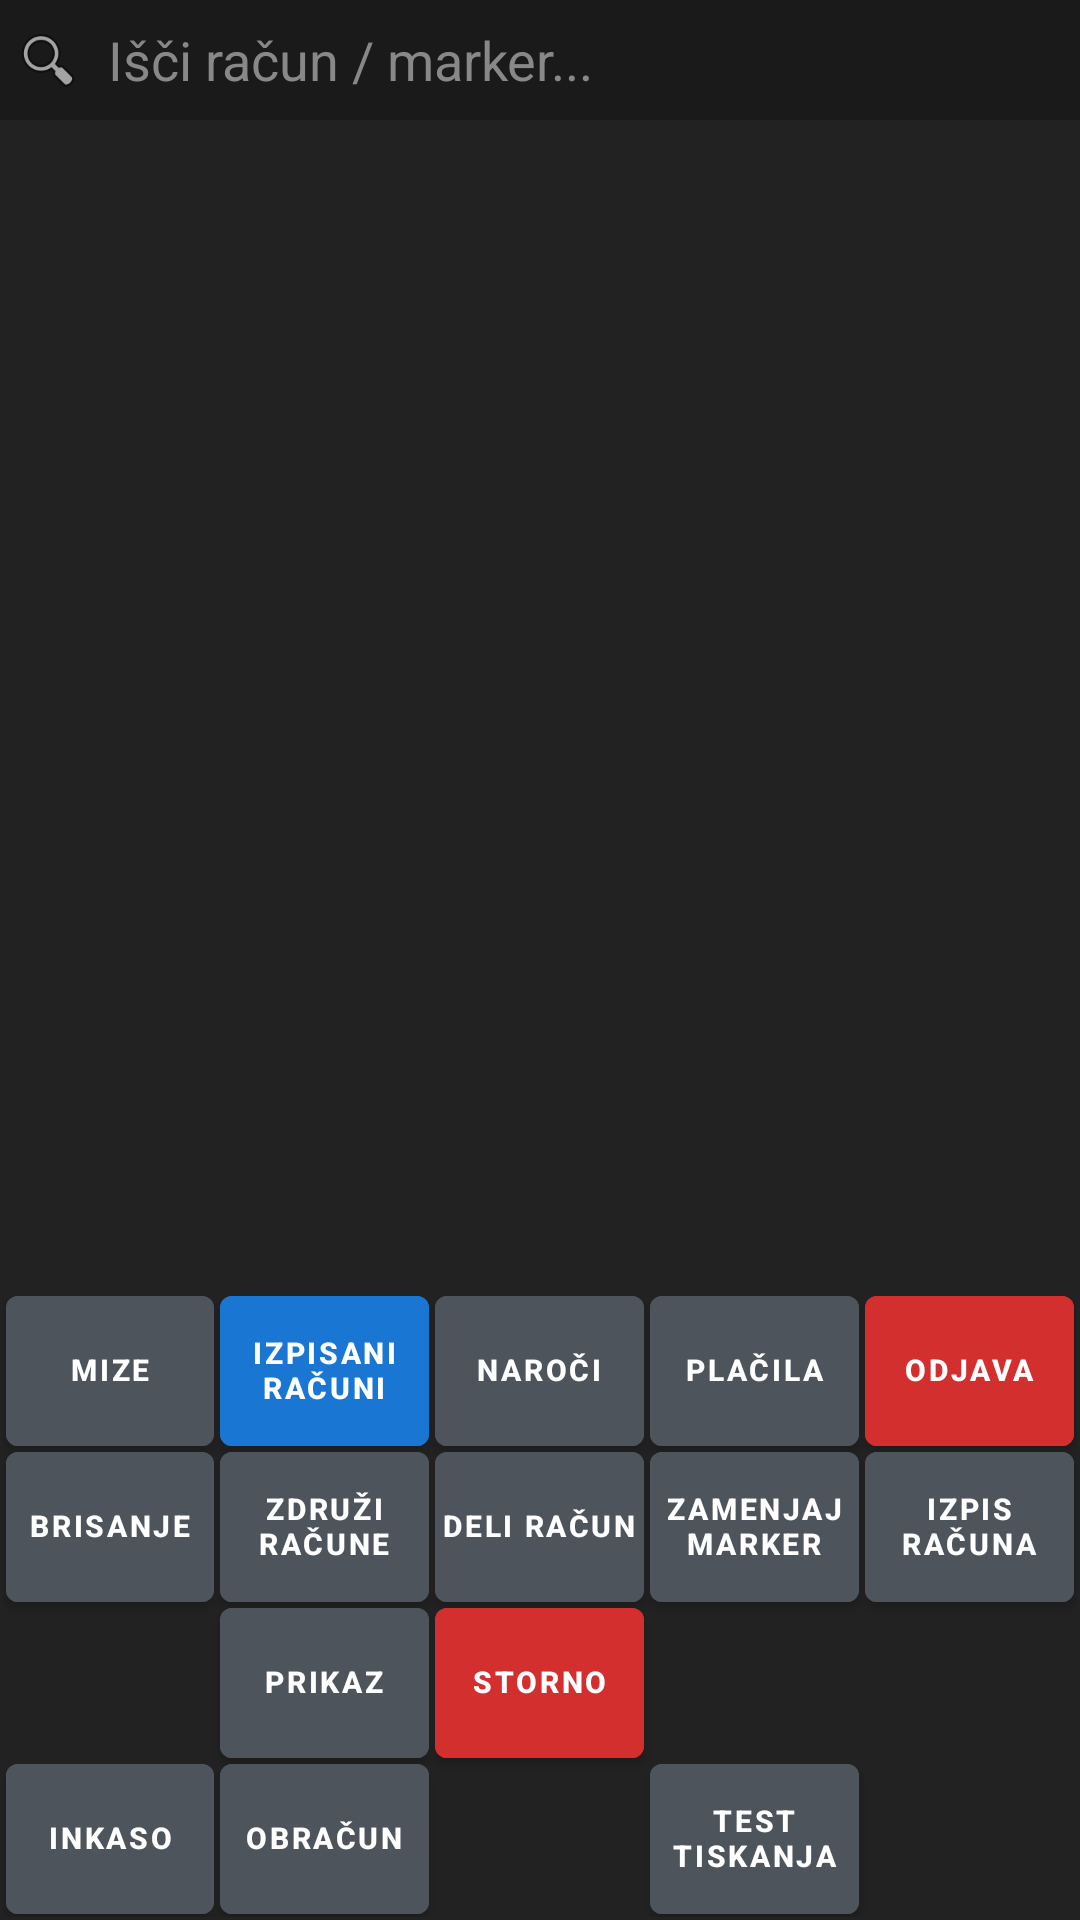

Where icons sit on this 1080×1920 app screen, as region(x1, y1, x2, y2):
Search: region(24, 36, 72, 85)
